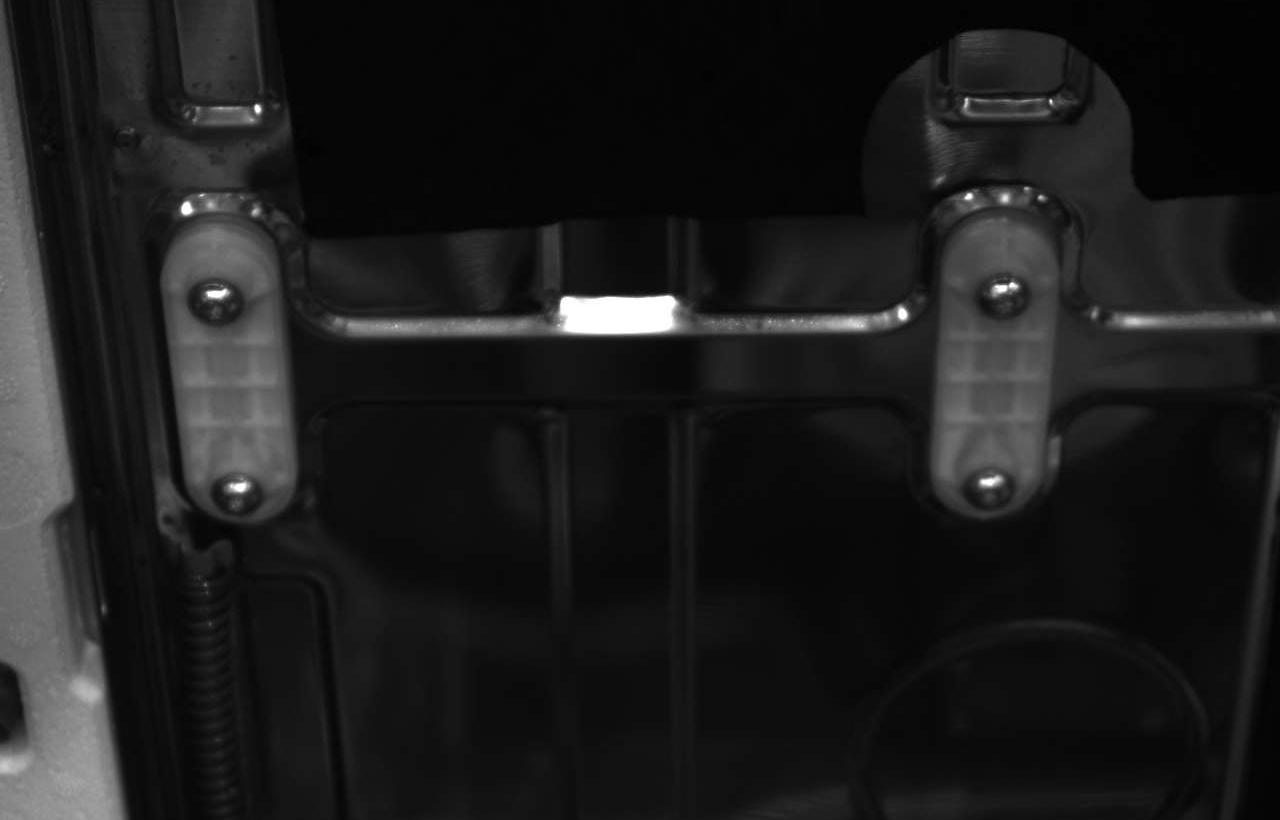vida-ok: (179, 268, 250, 335), (970, 261, 1037, 328), (956, 447, 1021, 515), (206, 464, 271, 522)
